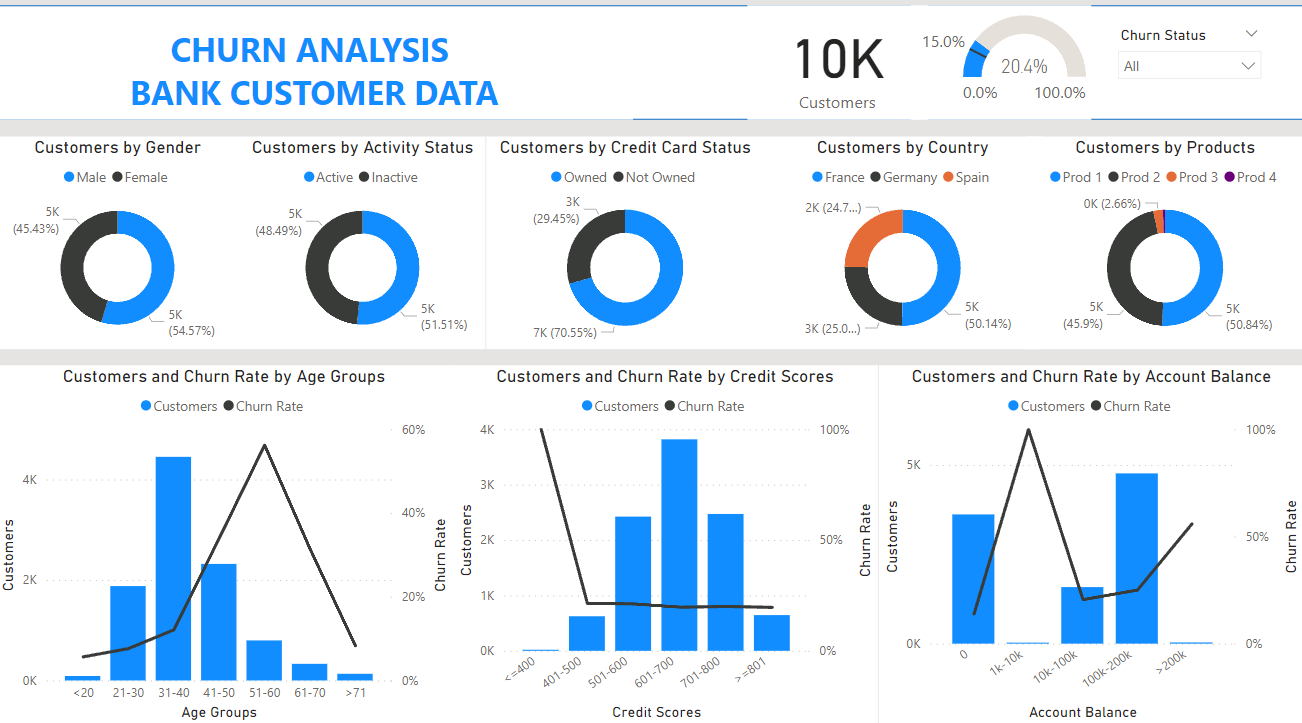

Layout of this report page (visuals, bound fields, positions):
{"tool":"powerbi","page":{"name":"Page 1","canvas":[1280,720],"ordinal":0},"visuals":[{"type":"shape","box":[0,16,1280,112],"z":0},{"type":"card","fields":{"Values":["Customer Data.Customers"]},"box":[736,16,176,112],"z":1000},{"type":"donutChart","fields":{"Category":["Customer Data.Gender"],"Y":["Customer Data.Customers"]},"box":[0,144,240,208],"z":2000},{"type":"donutChart","fields":{"Y":["Customer Data.Customers"],"Category":["Customer Data.Activity Status"]},"box":[240,144,240,208],"z":3000},{"type":"donutChart","fields":{"Y":["Customer Data.Customers"],"Category":["Customer Data.Credit Card Status"]},"box":[480,144,272,208],"z":4000},{"type":"donutChart","fields":{"Y":["Customer Data.Customers"],"Category":["Customer Data.Country"]},"box":[752,144,272,208],"z":5000},{"type":"donutChart","fields":{"Y":["Customer Data.Customers"],"Category":["Customer Data.Products"]},"box":[1008,144,272,208],"z":6000},{"type":"lineClusteredColumnComboChart","fields":{"Category":["Age Groups.Age Groups"],"Y":["Customer Data.Customers"],"Y2":["Customer Data.Churn Rate"]},"box":[0,368,448,352],"z":7000},{"type":"lineClusteredColumnComboChart","fields":{"Y":["Customer Data.Customers"],"Y2":["Customer Data.Churn Rate"],"Category":["Credit Scores Group.Credit Scores"]},"box":[448,368,416,352],"z":8000},{"type":"lineClusteredColumnComboChart","fields":{"Y":["Customer Data.Customers"],"Y2":["Customer Data.Churn Rate"],"Category":["Acct Balance Groups.Account Balance"]},"box":[864,368,416,352],"z":9000},{"type":"slicer","fields":{"Values":["Customer Data.Churn Status"]},"box":[1088,32,160,80],"z":10000},{"type":"gauge","fields":{"Y":["Customer Data.Churn Rate"],"MinValue":["Min(Customer Data.Min Churn Rate)"],"MaxValue":["Max(Customer Data.Max Churn Rate)"],"TargetValue":["Min(Customer Data.Target Churn Rate)"]},"box":[896,16,176,112],"z":11000},{"type":"textbox","box":[0,32,624,96],"z":12000}]}

Visuals, with their boxes in screenshot pixels (x1, y1, x2, y2), scaled from the page's 1280x720 canvas onto the 1302x723 screenshot:
shape: bbox=(0, 16, 1301, 129)
card - Customer Data.Customers: bbox=(749, 16, 928, 129)
donutChart - Customer Data.Gender x Customer Data.Customers: bbox=(0, 145, 244, 353)
donutChart - Customer Data.Customers x Customer Data.Activity Status: bbox=(244, 145, 488, 353)
donutChart - Customer Data.Customers x Customer Data.Credit Card Status: bbox=(488, 145, 765, 353)
donutChart - Customer Data.Customers x Customer Data.Country: bbox=(765, 145, 1042, 353)
donutChart - Customer Data.Customers x Customer Data.Products: bbox=(1025, 145, 1301, 353)
lineClusteredColumnComboChart - Age Groups.Age Groups x Customer Data.Customers: bbox=(0, 370, 456, 722)
lineClusteredColumnComboChart - Customer Data.Customers x Customer Data.Churn Rate: bbox=(456, 370, 879, 722)
lineClusteredColumnComboChart - Customer Data.Customers x Customer Data.Churn Rate: bbox=(879, 370, 1301, 722)
slicer - Customer Data.Churn Status: bbox=(1107, 32, 1269, 112)
gauge - Customer Data.Churn Rate x Min(Customer Data.Min Churn Rate): bbox=(911, 16, 1090, 129)
textbox: bbox=(0, 32, 635, 129)
